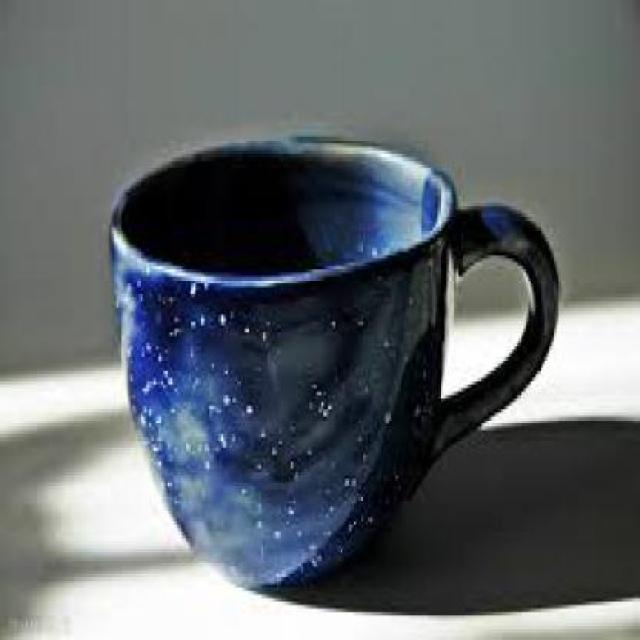cup: (103, 129, 566, 598)
